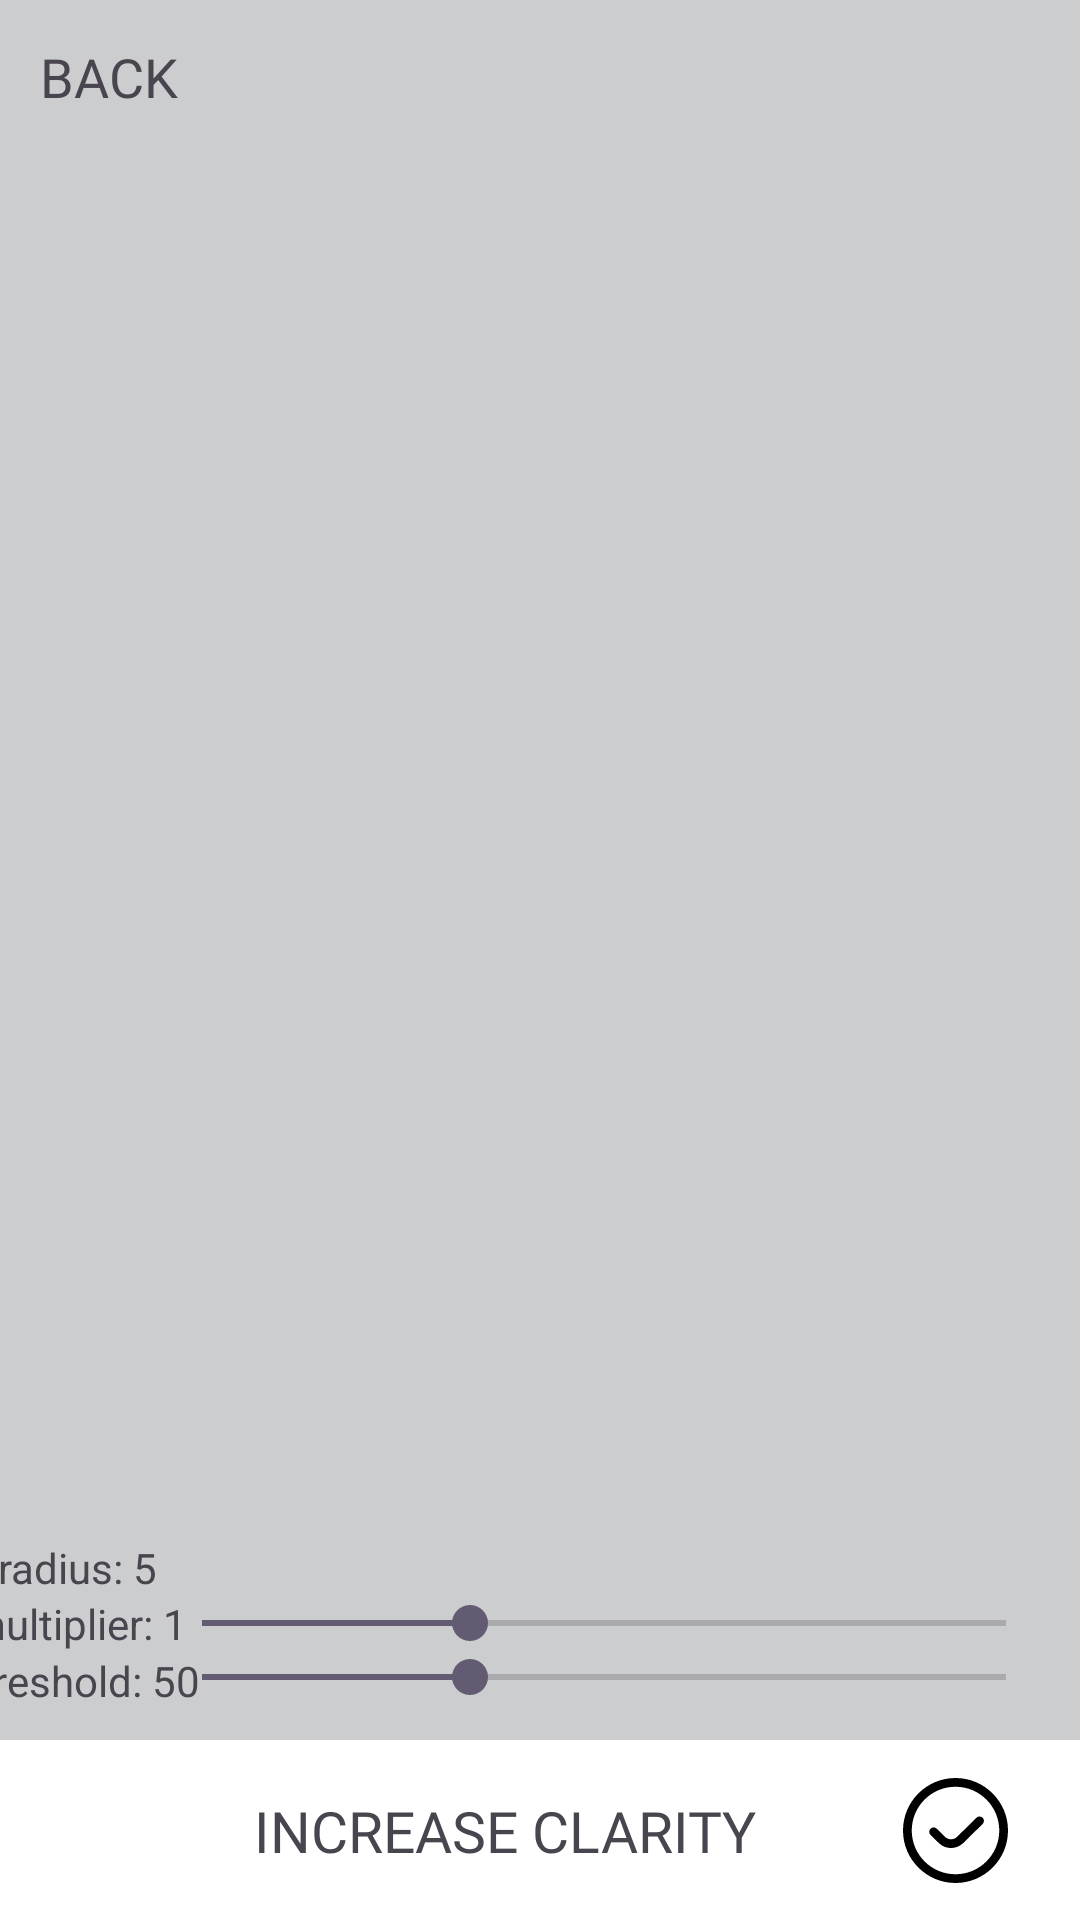

Icon bounding boxes for this 1080px×1920px phone screenshot, format box(x1, y1, x2, y2):
tikk: box(903, 1778, 1008, 1883)
